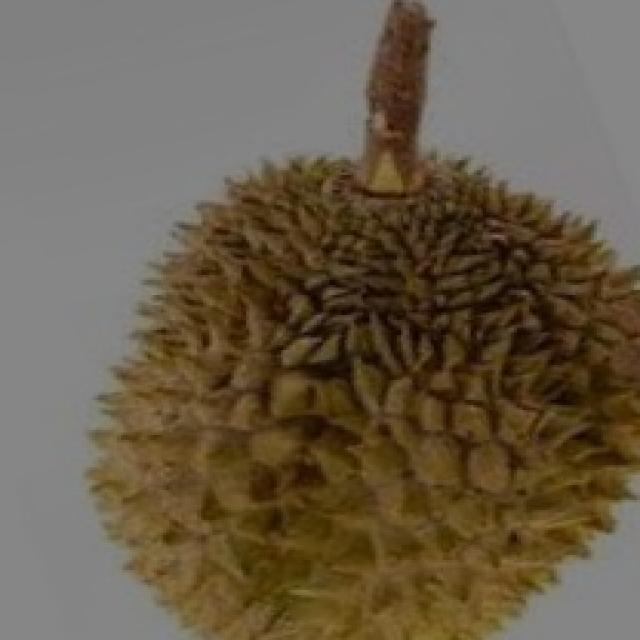fruit: (30, 275, 388, 640), (295, 265, 637, 640)
